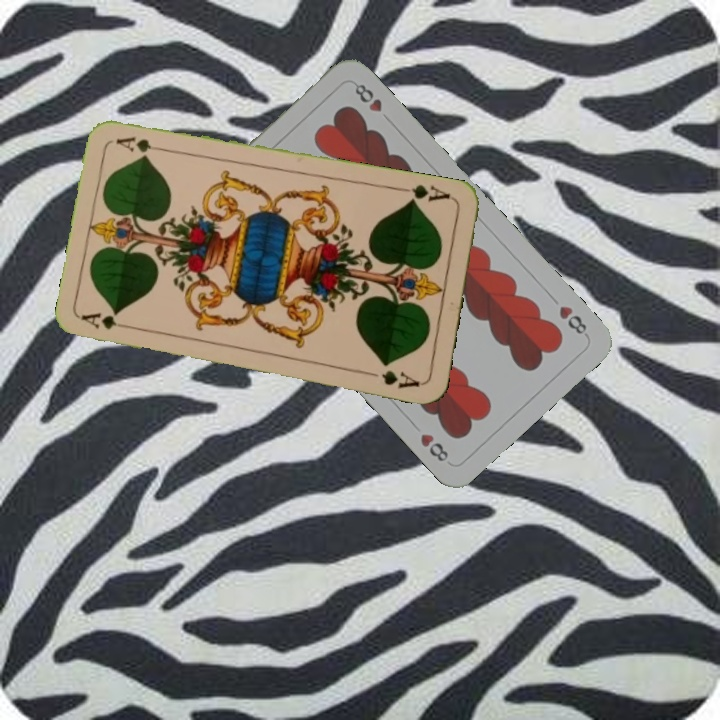GA: (396, 180, 454, 207), (79, 310, 137, 333)
H8: (554, 301, 591, 340)
